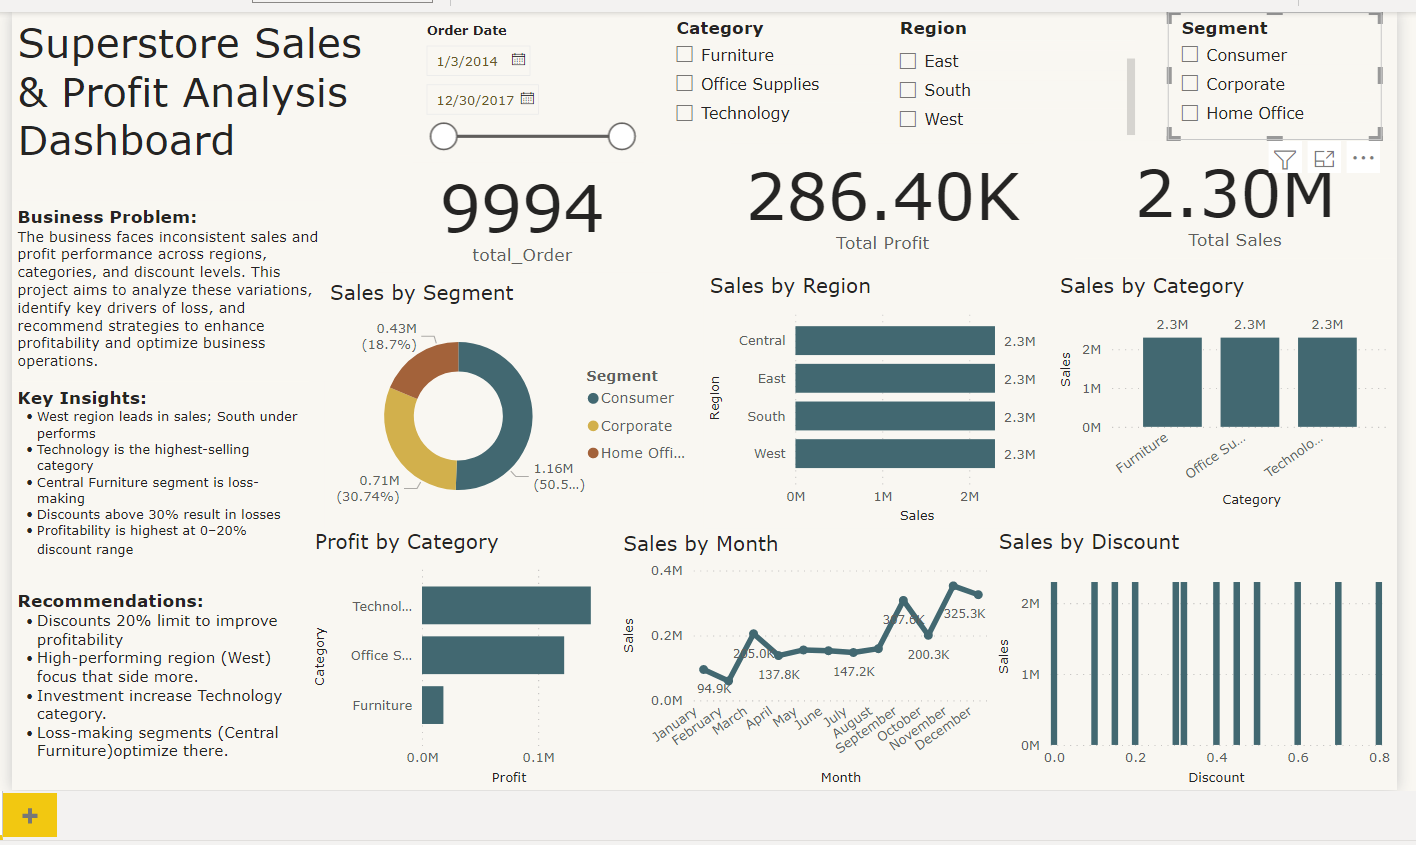

The page's visual inventory and layout, read from the dashboard file:
{"tool":"powerbi","page":{"name":"Page 1","canvas":[1280,720],"ordinal":0},"visuals":[{"type":"card","fields":{"Values":["data.Total Sales"]},"box":[982.2,119.1,297.6,109.1],"z":0},{"type":"card","fields":{"Values":["data.total_Order"]},"box":[311.8,138.9,272.1,109.1],"z":1000},{"type":"card","fields":{"Values":["data.Total Profit"]},"box":[664.7,121.9,280.6,109.1],"z":2000},{"type":"clusteredColumnChart","fields":{"Category":["data.Discount"],"Y":["Sum(Table1.Sales)"]},"box":[907.1,477.6,372.8,242.4],"z":3000},{"type":"clusteredBarChart","fields":{"Category":["data.Region"],"Y":["Sum(Table1.Sales)"]},"box":[640.6,240.9,323.1,236.7],"z":4000},{"type":"clusteredColumnChart","fields":{"Category":["data.Category"],"Y":["Sum(Table1.Sales)"]},"box":[963.8,240.9,316.1,221.1],"z":5000},{"type":"lineChart","fields":{"Category":["data.Order Date.Variation.Date Hierarchy.Month"],"Y":["Sum(data.Sales)"]},"box":[559.8,480.5,347.2,239.5],"z":6000},{"type":"donutChart","fields":{"Category":["data.Segment"],"Y":["Sum(data.Sales)"]},"box":[289.1,248,350.1,229.6],"z":7000},{"type":"clusteredBarChart","fields":{"Category":["data.Category"],"Y":["Sum(data.Profit)"]},"box":[275,477.6,284.9,242.4],"z":8000},{"type":"slicer","fields":{"Values":["data.Segment"]},"box":[1068.7,0,197,119.1],"z":9000},{"type":"slicer","fields":{"Values":["data.Region"]},"box":[807.9,0,235.3,119.1],"z":10000},{"type":"slicer","fields":{"Values":["data.Order Date"]},"box":[369.9,4.3,214,127.6],"z":11000},{"type":"slicer","fields":{"Values":["data.Category"]},"box":[600.9,0,206.9,119.1],"z":12000},{"type":"textbox","box":[0,240.9,289.1,239.5],"z":13000},{"type":"textbox","box":[0,0,335.9,177.2],"z":14000},{"type":"textbox","box":[0,480.5,275,239.5],"z":15000}]}

Visuals, with their boxes on the page's 1280x720 design canvas (x1, y1, x2, y2). These are canvas units, not pixel positions in the 1416x845 screenshot, which may show the page scaled, cropped or inside an application window:
card - data.Total Sales: [left=982, top=119, right=1280, bottom=228]
card - data.total_Order: [left=312, top=139, right=584, bottom=248]
card - data.Total Profit: [left=665, top=122, right=945, bottom=231]
clusteredColumnChart - data.Discount x Sum(Table1.Sales): [left=907, top=478, right=1280, bottom=720]
clusteredBarChart - data.Region x Sum(Table1.Sales): [left=641, top=241, right=964, bottom=478]
clusteredColumnChart - data.Category x Sum(Table1.Sales): [left=964, top=241, right=1280, bottom=462]
lineChart - data.Order Date.Variation.Date Hierarchy.Month x Sum(data.Sales): [left=560, top=480, right=907, bottom=720]
donutChart - data.Segment x Sum(data.Sales): [left=289, top=248, right=639, bottom=478]
clusteredBarChart - data.Category x Sum(data.Profit): [left=275, top=478, right=560, bottom=720]
slicer - data.Segment: [left=1069, top=0, right=1266, bottom=119]
slicer - data.Region: [left=808, top=0, right=1043, bottom=119]
slicer - data.Order Date: [left=370, top=4, right=584, bottom=132]
slicer - data.Category: [left=601, top=0, right=808, bottom=119]
textbox: [left=0, top=241, right=289, bottom=480]
textbox: [left=0, top=0, right=336, bottom=177]
textbox: [left=0, top=480, right=275, bottom=720]
